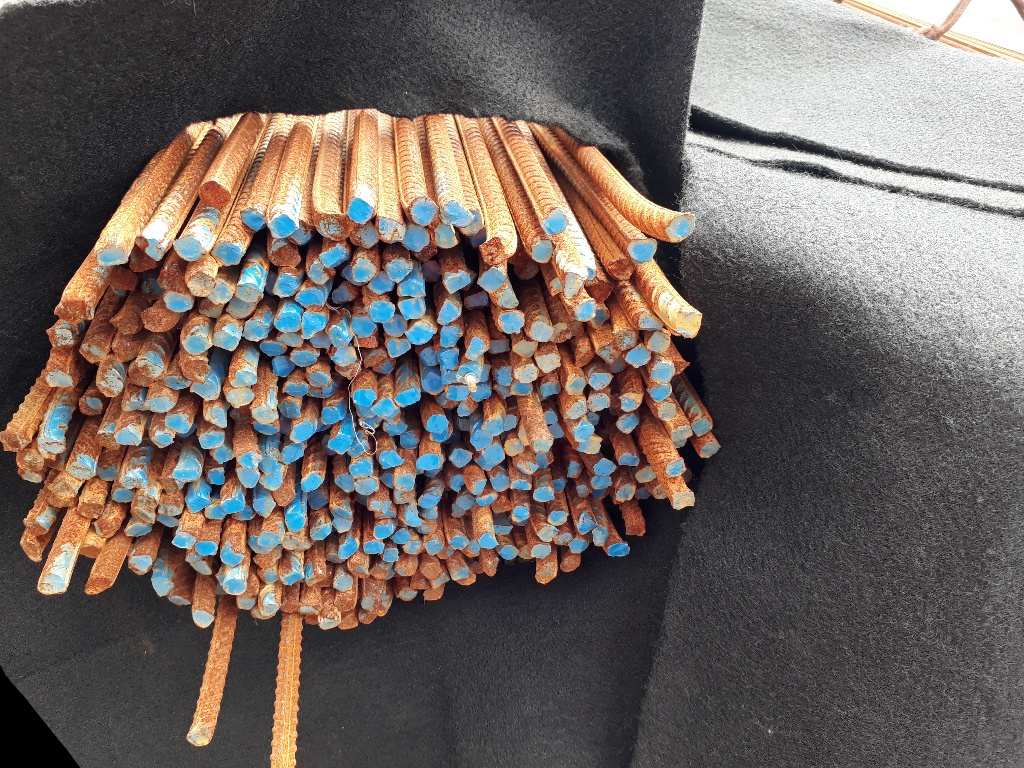dipstick: (315, 211, 351, 241), (54, 299, 93, 326), (198, 180, 232, 208), (666, 213, 696, 242), (299, 309, 327, 340), (476, 266, 508, 293), (105, 264, 137, 291), (133, 236, 167, 261), (347, 195, 375, 224), (477, 238, 507, 265), (295, 285, 326, 311), (186, 271, 217, 297), (348, 223, 380, 248), (45, 484, 77, 509), (375, 216, 404, 243), (137, 351, 166, 378), (144, 304, 171, 333), (190, 375, 221, 400), (162, 288, 193, 313), (210, 242, 242, 266), (320, 244, 349, 270), (627, 237, 657, 262), (383, 258, 414, 282), (43, 368, 75, 391), (675, 311, 702, 338), (268, 241, 297, 266), (173, 236, 202, 261), (182, 356, 211, 381), (405, 320, 435, 344), (127, 248, 158, 271), (498, 309, 525, 335), (432, 223, 460, 248), (439, 201, 468, 225), (350, 258, 379, 282), (272, 273, 301, 297), (327, 344, 358, 366), (529, 238, 555, 264), (435, 299, 461, 325), (403, 225, 429, 251), (541, 210, 568, 235), (94, 374, 122, 398), (584, 280, 614, 302), (270, 214, 296, 239), (208, 279, 233, 305), (1, 429, 27, 454), (212, 328, 239, 352), (109, 312, 139, 333), (368, 270, 394, 294), (326, 325, 352, 349), (624, 344, 651, 367), (444, 270, 471, 293), (183, 332, 210, 355), (16, 447, 43, 470), (397, 298, 425, 320), (464, 336, 489, 360), (328, 431, 352, 456), (329, 507, 353, 532), (252, 404, 282, 424), (275, 309, 301, 332), (240, 209, 266, 232), (158, 494, 184, 517), (461, 208, 483, 235), (198, 296, 225, 318), (228, 369, 259, 388), (385, 337, 413, 358), (226, 387, 255, 407), (318, 605, 342, 629), (243, 317, 267, 341), (288, 220, 312, 244), (143, 394, 175, 412), (128, 362, 152, 386), (122, 387, 146, 411), (308, 261, 333, 284), (644, 331, 671, 352), (369, 301, 396, 322), (38, 574, 65, 595), (650, 361, 675, 383), (448, 446, 473, 468), (343, 264, 368, 286), (304, 561, 326, 586), (273, 485, 298, 507), (562, 268, 588, 289), (455, 364, 481, 385), (81, 342, 107, 363), (96, 430, 122, 451), (512, 455, 539, 475), (512, 362, 539, 382), (397, 279, 427, 297), (198, 430, 225, 450), (38, 435, 65, 455), (337, 536, 360, 559), (21, 539, 44, 562), (573, 300, 597, 322), (422, 372, 444, 396), (384, 315, 408, 337), (397, 504, 421, 526), (332, 282, 356, 304), (288, 421, 312, 443), (514, 258, 539, 279), (220, 544, 245, 565), (130, 505, 156, 525), (535, 354, 562, 373), (371, 399, 398, 418), (235, 282, 262, 301), (114, 427, 141, 446), (85, 576, 112, 595), (76, 500, 103, 519), (97, 247, 129, 263), (563, 398, 586, 420), (438, 325, 461, 347), (483, 442, 505, 465), (272, 354, 295, 376), (205, 406, 227, 429), (257, 592, 279, 615), (160, 269, 183, 291), (284, 511, 308, 532), (253, 549, 281, 567), (192, 608, 216, 629), (113, 341, 137, 362), (45, 328, 73, 346), (15, 466, 43, 484), (280, 444, 305, 464), (77, 396, 102, 416), (306, 367, 332, 386), (292, 349, 319, 367), (310, 381, 337, 399), (589, 307, 611, 329), (279, 399, 301, 421), (530, 320, 553, 341), (253, 496, 276, 517), (150, 575, 173, 596), (609, 260, 633, 280), (279, 565, 303, 585), (203, 500, 227, 520), (149, 426, 173, 446), (128, 555, 152, 575), (586, 394, 611, 413), (335, 360, 360, 379), (185, 492, 210, 511), (278, 331, 304, 349), (261, 339, 287, 357), (67, 461, 93, 479), (133, 492, 159, 510), (437, 349, 459, 370), (394, 553, 415, 575), (237, 466, 259, 487), (22, 517, 49, 534), (470, 431, 494, 450), (425, 414, 449, 433), (348, 459, 372, 478), (258, 530, 282, 549), (597, 345, 622, 363), (592, 458, 617, 476), (512, 341, 537, 359), (494, 290, 519, 308), (429, 424, 454, 442), (413, 241, 438, 259), (283, 379, 308, 397), (165, 414, 190, 432), (635, 315, 663, 331), (463, 292, 489, 309), (445, 384, 471, 401), (564, 374, 585, 395), (334, 472, 355, 493), (307, 489, 328, 510), (691, 418, 713, 438), (615, 414, 637, 434), (548, 323, 570, 343), (482, 418, 504, 438), (535, 564, 555, 586), (354, 476, 376, 496), (613, 331, 636, 350), (571, 423, 594, 442), (578, 435, 601, 454), (469, 383, 492, 402), (334, 569, 353, 592), (260, 470, 283, 489), (172, 467, 201, 482), (648, 384, 672, 402), (416, 453, 440, 471), (394, 388, 418, 406), (381, 420, 408, 436), (94, 519, 118, 537), (664, 457, 685, 477), (575, 514, 596, 534), (311, 328, 332, 348), (253, 419, 281, 434), (248, 534, 269, 554), (325, 545, 347, 564), (264, 439, 283, 461), (173, 530, 195, 549), (116, 475, 142, 491), (672, 492, 695, 510), (588, 372, 612, 389), (491, 496, 515, 513), (162, 372, 186, 389), (190, 559, 214, 576), (420, 347, 440, 367), (194, 540, 219, 556), (573, 348, 594, 367), (559, 554, 580, 573), (510, 506, 531, 525), (537, 523, 558, 542), (394, 473, 415, 492), (335, 592, 356, 611), (339, 610, 360, 629), (487, 336, 509, 354), (309, 523, 331, 541), (223, 496, 245, 514), (698, 441, 721, 458), (531, 435, 554, 452), (375, 503, 398, 520), (352, 390, 376, 406), (391, 488, 415, 504), (110, 487, 134, 503), (615, 483, 635, 502), (480, 556, 500, 575), (410, 570, 430, 589), (320, 406, 340, 425), (141, 277, 160, 297), (97, 464, 118, 482), (434, 392, 456, 409), (301, 473, 323, 490), (188, 730, 210, 747), (363, 350, 386, 366), (224, 579, 247, 595), (626, 519, 646, 537), (591, 525, 609, 545), (497, 365, 515, 385), (378, 451, 399, 468), (620, 394, 642, 410), (590, 475, 612, 491), (607, 542, 629, 558), (503, 439, 525, 455), (373, 359, 395, 375), (258, 567, 280, 583), (509, 381, 534, 395), (634, 467, 657, 482), (348, 440, 371, 455), (362, 539, 385, 554), (282, 534, 305, 549), (490, 474, 509, 492), (463, 476, 482, 494), (479, 532, 498, 550), (398, 584, 417, 602), (351, 561, 370, 579), (540, 378, 560, 395), (423, 585, 443, 602), (423, 261, 440, 281), (547, 510, 568, 526), (497, 544, 518, 560), (390, 528, 411, 544), (212, 445, 233, 461), (448, 535, 470, 550), (297, 602, 319, 617), (658, 403, 677, 420), (475, 453, 494, 470), (424, 539, 443, 556), (422, 562, 441, 579), (399, 431, 418, 448), (207, 467, 226, 484), (669, 426, 692, 440), (230, 407, 253, 421), (157, 513, 180, 527), (582, 260, 598, 280), (494, 519, 514, 535), (618, 453, 639, 468), (567, 538, 588, 553), (554, 531, 575, 546), (438, 370, 459, 385), (236, 594, 257, 609), (79, 544, 100, 559), (167, 593, 191, 606), (532, 488, 554, 502), (417, 494, 439, 508), (257, 454, 275, 471), (373, 524, 393, 539), (356, 404, 376, 419), (448, 565, 469, 579), (462, 540, 479, 557), (249, 606, 273, 618), (511, 479, 533, 492), (367, 495, 386, 510), (531, 543, 551, 557), (455, 495, 475, 509), (356, 609, 376, 623), (175, 423, 195, 437), (473, 494, 498, 505), (414, 520, 435, 533), (359, 416, 380, 429), (672, 358, 689, 374), (379, 472, 395, 489), (536, 452, 554, 467), (566, 462, 581, 480), (363, 594, 381, 609), (569, 318, 583, 337), (381, 548, 400, 562), (435, 546, 455, 559), (403, 541, 423, 554), (494, 383, 511, 398), (449, 475, 464, 492), (503, 414, 517, 432), (235, 507, 253, 521), (518, 546, 537, 559), (430, 574, 449, 587), (420, 506, 439, 519), (610, 358, 626, 373), (574, 483, 590, 498), (542, 410, 558, 425), (548, 424, 564, 439), (455, 403, 471, 418), (548, 277, 562, 294), (458, 572, 476, 585), (279, 599, 297, 612), (479, 362, 490, 383), (517, 425, 529, 444), (550, 478, 566, 492), (469, 561, 485, 575), (450, 504, 466, 518), (653, 485, 669, 498), (636, 486, 650, 500), (585, 411, 599, 425), (458, 417, 470, 431), (425, 468, 441, 478), (217, 569, 225, 588), (185, 554, 199, 564), (674, 440, 687, 448)
